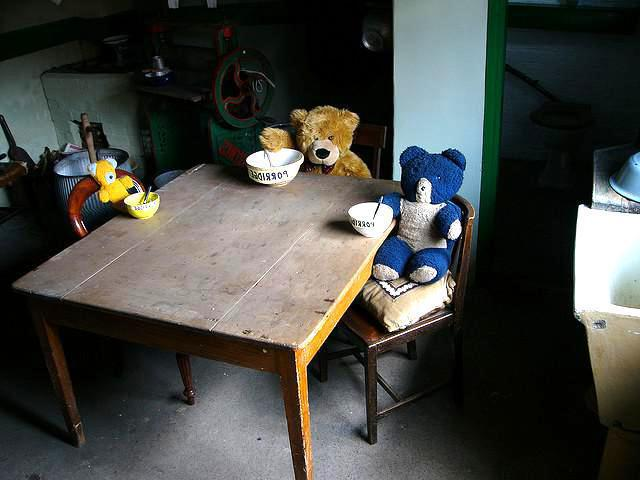Lavaplatos: (575, 199, 639, 439)
